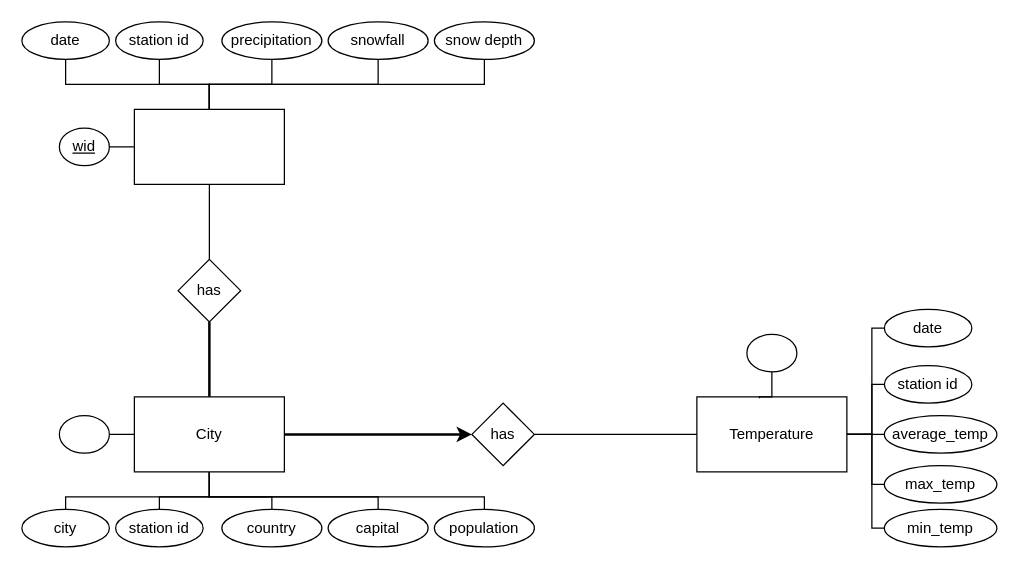
This 1019x569 diagram has some shape labels left out. The shapes that lost their labels are listed below. From the top down, each one's centre as x and y in pixels, then its label:
At [208,146]: "Weather Conditions".
At [771,352]: "tid".
At [83,433]: "cid".
